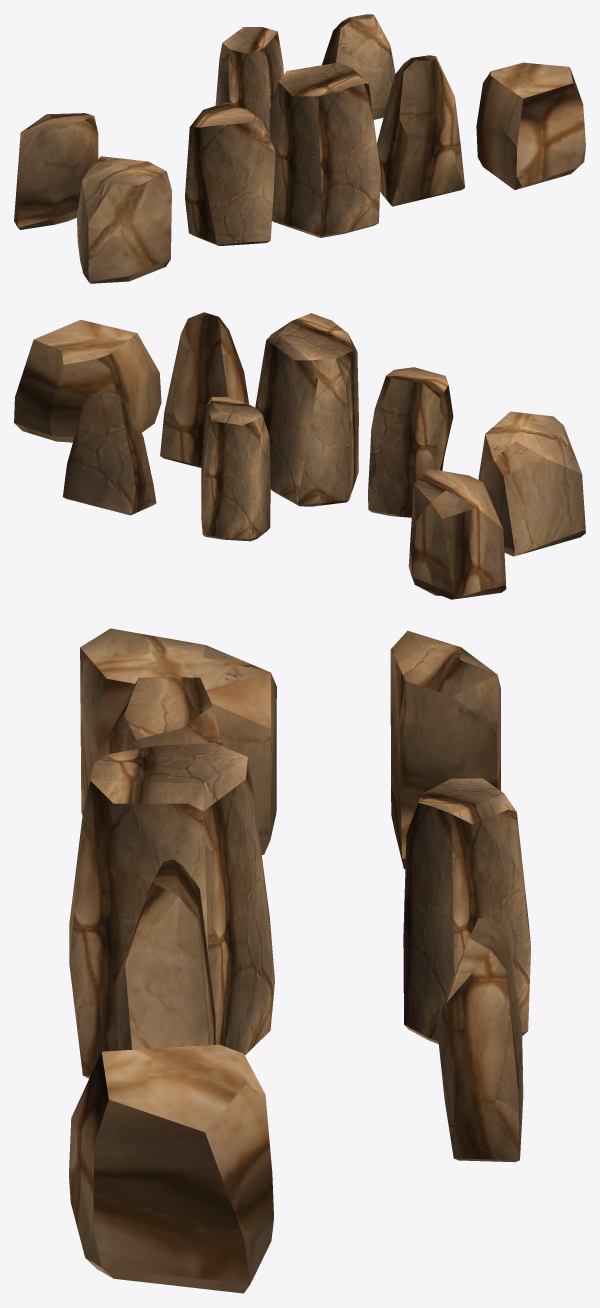
Rendered from Shale Piece.fbx.
3 views of the same model, one above another, from view 1: azimuth 30°, elevation 25°; view 2: azimuth 150°, elevation 25°; view 3: azimuth 270°, elevation 25° (orthographic). The views are drawn at different scales.
Visible parts, largest first — view 1: Shale Piece.006, Shale Piece.008, Shale Piece.004, Shale Piece.001, Shale Piece.003, Shale Piece.002, Shale Piece.007, Shale Piece.005; view 2: Shale Piece.006, Shale Piece.008, Shale Piece.001, Shale Piece.002, Shale Piece.004, Shale Piece.007, Shale Piece.005, Shale Piece.003; view 3: Shale Piece.008, Shale Piece.006, Shale Piece.007, Shale Piece.001, Shale Piece.005, Shale Piece.002, Shale Piece.003, Shale Piece.004.
Boxes of the visible parts, x1,y1,x2,y2 form: Shale Piece.006: (269, 62, 380, 237); Shale Piece.008: (476, 62, 585, 189); Shale Piece.004: (185, 102, 275, 245); Shale Piece.001: (77, 156, 171, 283); Shale Piece.003: (377, 55, 464, 206); Shale Piece.002: (14, 113, 98, 229); Shale Piece.007: (215, 27, 283, 137); Shale Piece.005: (322, 14, 395, 119); Shale Piece.006: (255, 313, 358, 506); Shale Piece.008: (14, 320, 161, 442); Shale Piece.001: (478, 411, 585, 556); Shale Piece.002: (408, 468, 506, 599); Shale Piece.004: (368, 367, 453, 517); Shale Piece.007: (201, 397, 270, 541); Shale Piece.005: (63, 390, 156, 515); Shale Piece.003: (160, 312, 249, 467); Shale Piece.008: (69, 1044, 273, 1293); Shale Piece.006: (69, 742, 274, 1078); Shale Piece.007: (403, 778, 530, 1043); Shale Piece.001: (80, 628, 276, 854); Shale Piece.005: (436, 916, 523, 1162); Shale Piece.002: (390, 630, 500, 868); Shale Piece.003: (113, 859, 216, 1050); Shale Piece.004: (109, 677, 222, 753).
Size of the model in its own units: 1915 by 532 by 748.
Materials: 1 (1 with a texture image).
